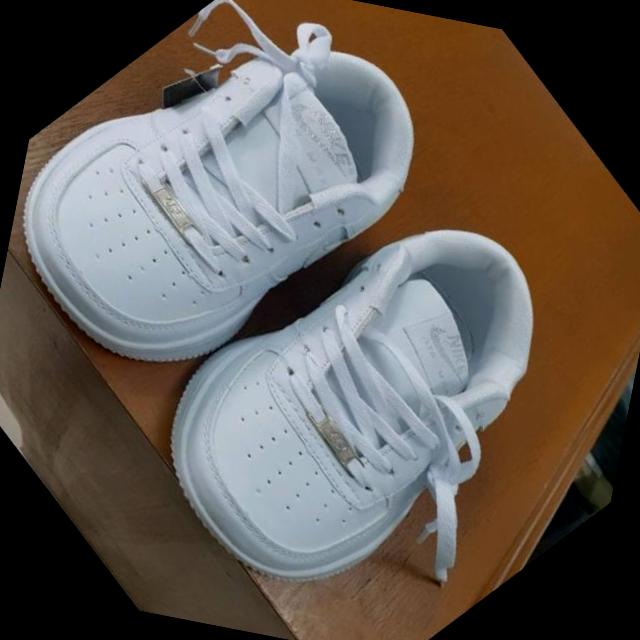nike_fake_airforce: (87, 122, 640, 640), (0, 0, 487, 465)
